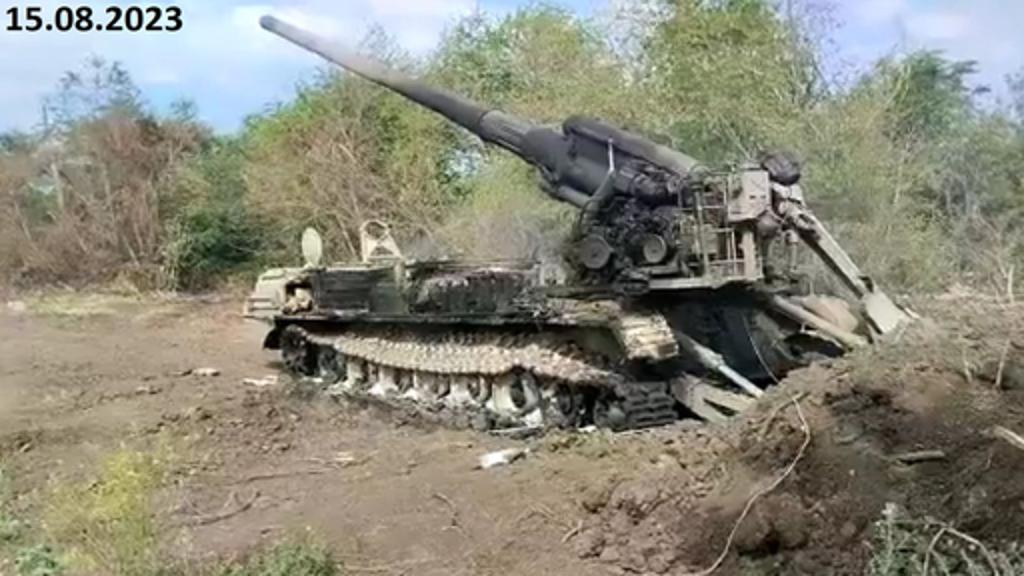ART: (256, 12, 898, 424)
